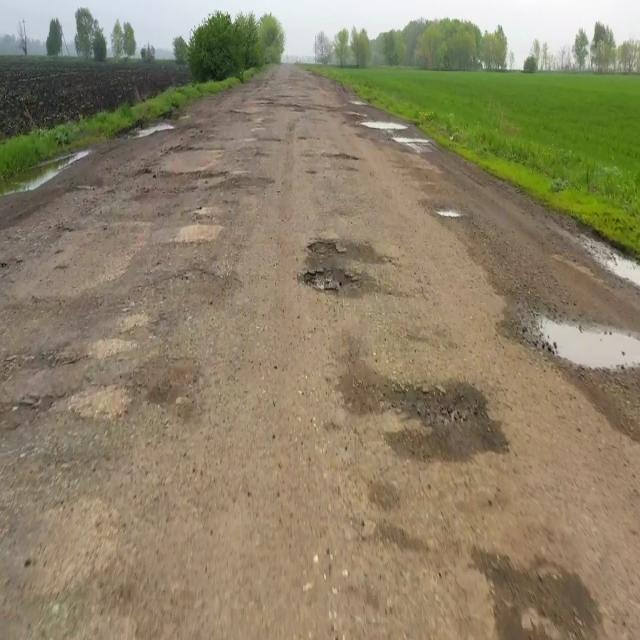road-pothole: (535, 312, 640, 361), (4, 151, 88, 196), (579, 229, 637, 292), (419, 386, 481, 433), (119, 111, 190, 145), (297, 263, 353, 296), (360, 115, 410, 135), (440, 205, 460, 221)
